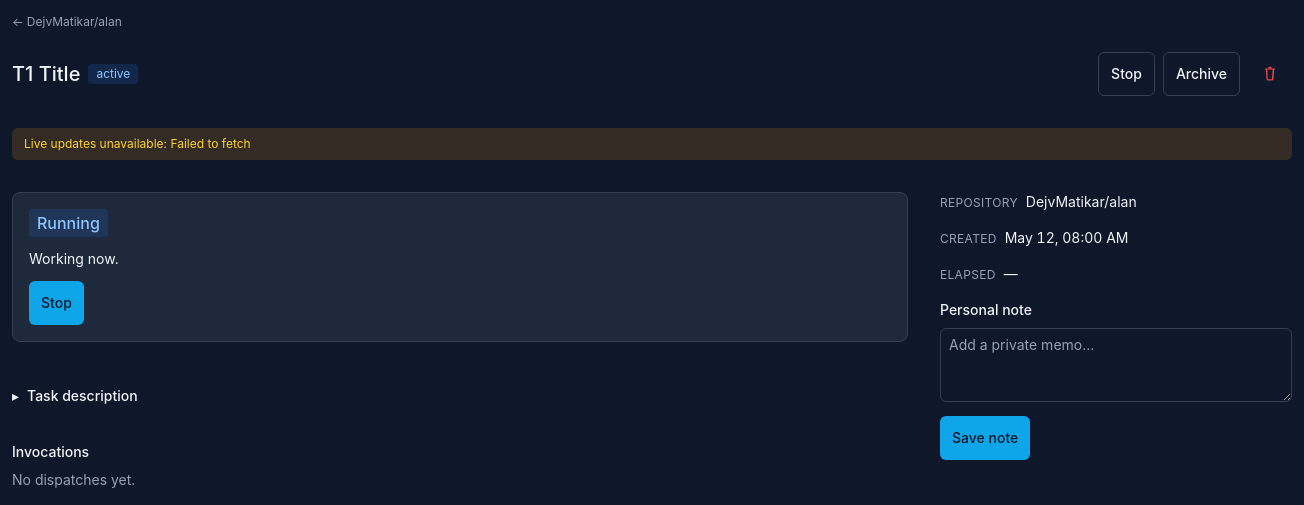
Workspace detail › stops a running workspace and refetches showing Resume
Click the button with test id "stop-button". click: (1126,74)
box: [1098, 52, 1155, 96]
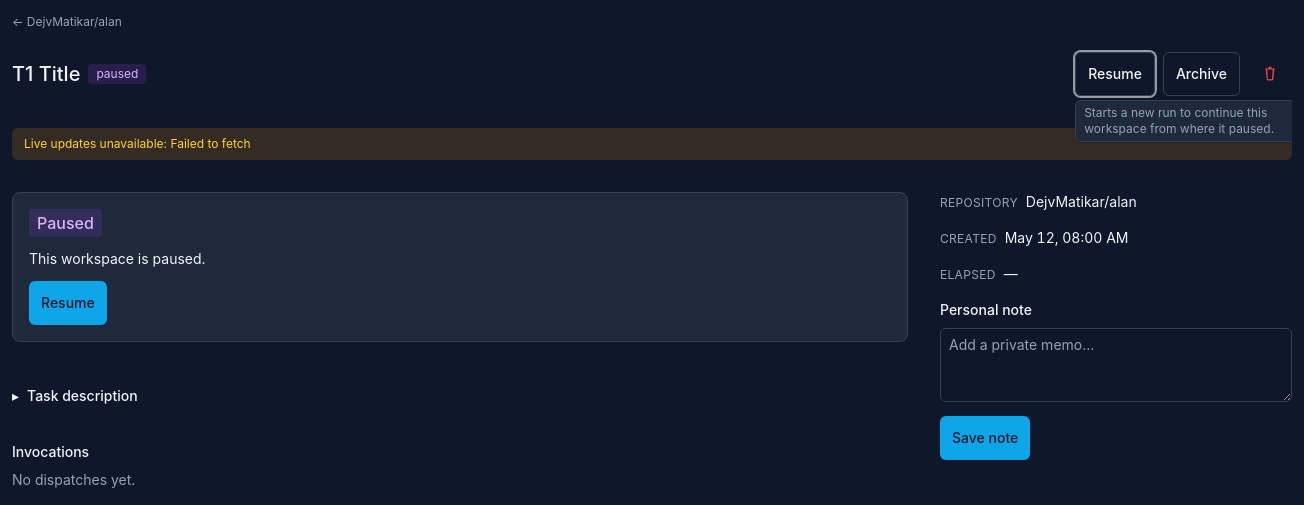
Result: the text "paused" is shown at [88, 64, 146, 84]
Result: the button with test id "resume-button" is shown at [1075, 52, 1155, 96]
